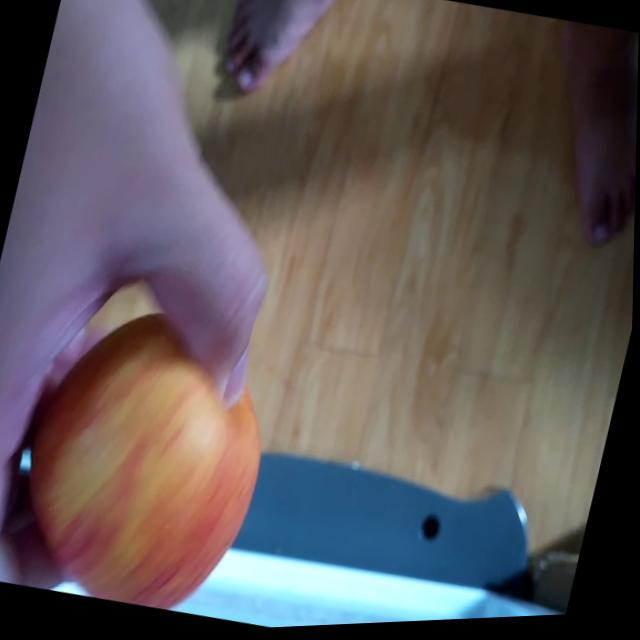apple: (2, 285, 286, 628)
